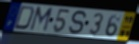3: (89, 13, 105, 36)
5: (52, 8, 72, 35)
6: (104, 14, 122, 38)
D: (12, 5, 36, 31)
M: (28, 6, 55, 34)
S: (67, 9, 88, 36)
